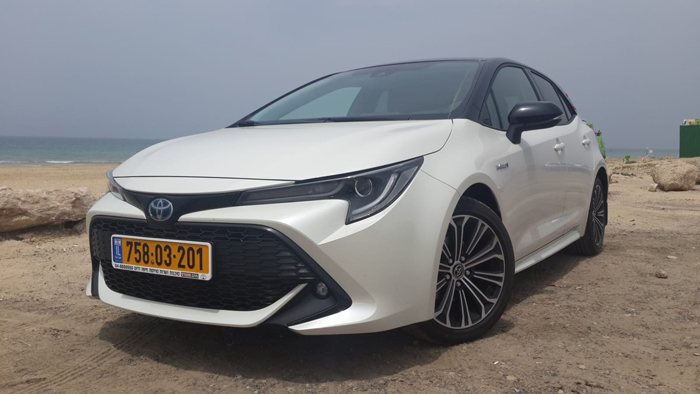licence: (108, 230, 218, 283)
